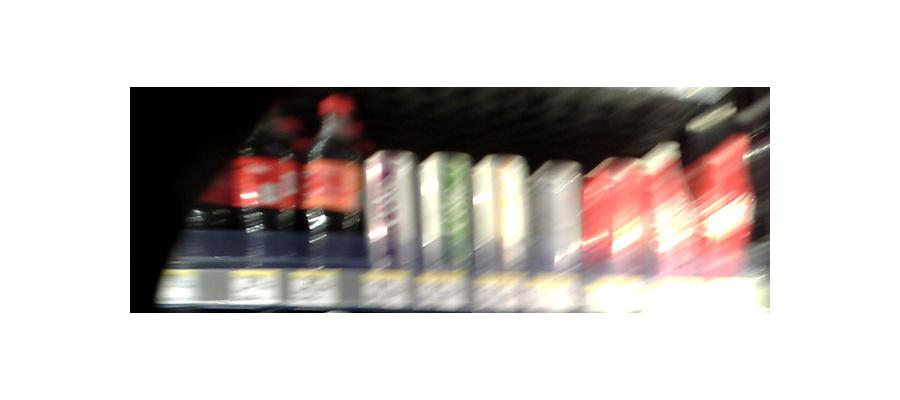bottle: (683, 122, 755, 274), (305, 92, 365, 271), (236, 110, 302, 269), (589, 156, 659, 289), (476, 152, 531, 293), (421, 150, 474, 296), (534, 159, 586, 296), (365, 154, 416, 288)
